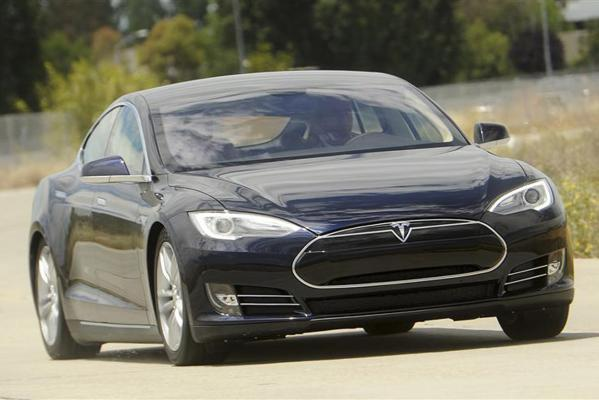Car: (17, 39, 599, 392)
